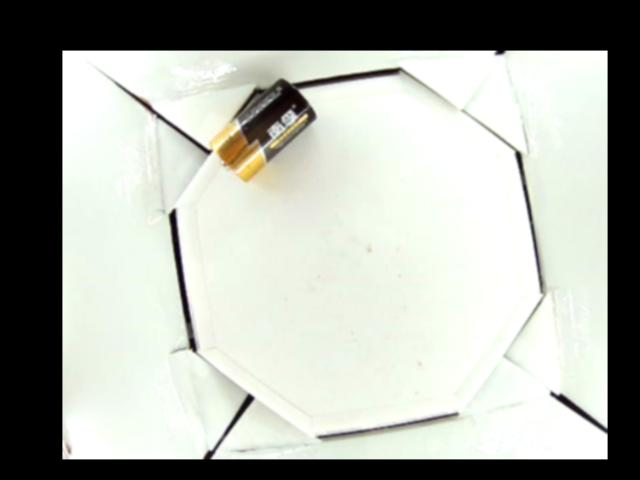Battery: (209, 78, 319, 182)
